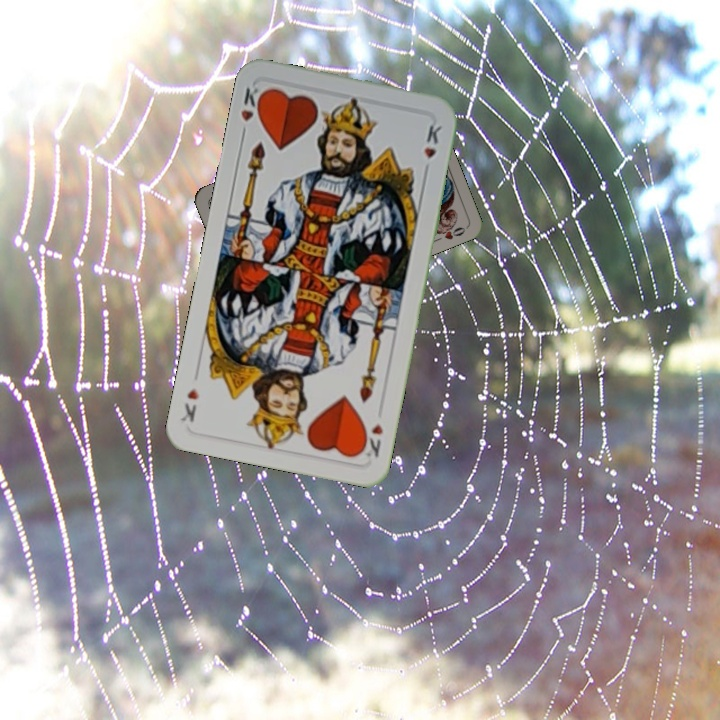HK: (236, 82, 268, 125), (356, 420, 386, 460)
